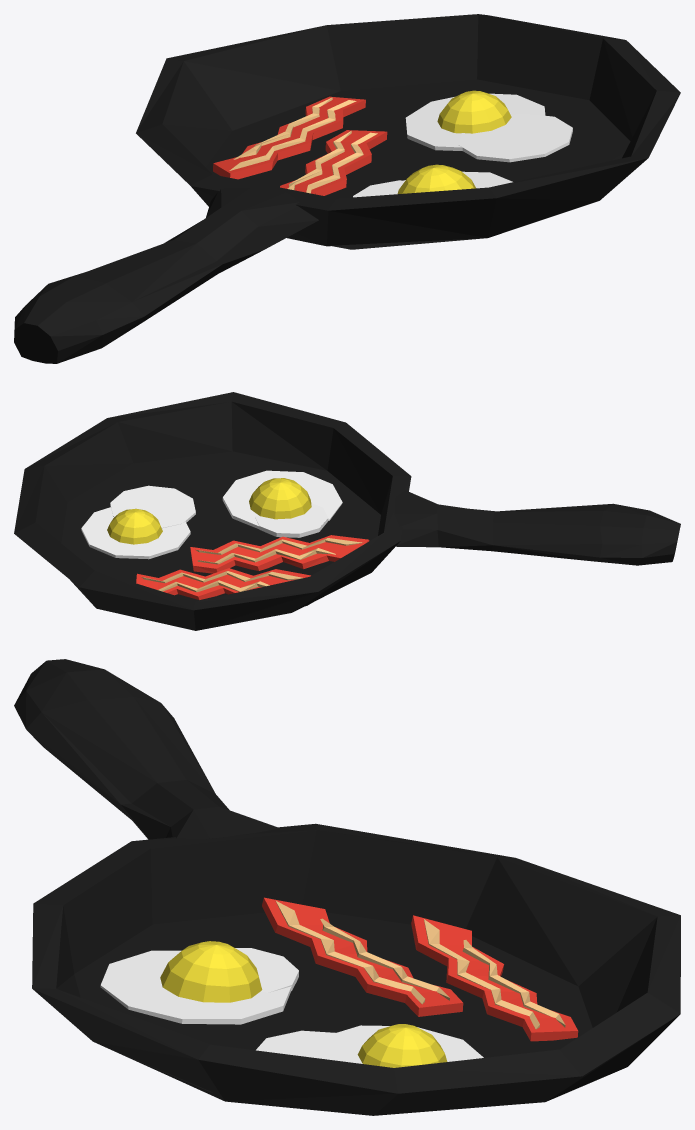
File: Breakfast by Ashley Alicea - adp5MvenMQm.glb
3 views of the same model, one above another, from view 1: azimuth 30°, elevation 25°; view 2: azimuth 150°, elevation 25°; view 3: azimuth 270°, elevation 25° (orthographic). The views are drawn at different scales.
Parts seen in each view (by area): view 1: group1349034579, group63637799, group1460893701, group959535772, group1521922237; view 2: group1349034579, group63637799, group1521922237, group959535772, group1460893701; view 3: group1349034579, group1521922237, group959535772, group1460893701, group63637799.
Part boxes in pixels (x1,y1,x2,y2): group1349034579: (14, 14, 680, 363); group63637799: (405, 90, 572, 162); group1460893701: (213, 96, 365, 179); group959535772: (280, 130, 387, 195); group1521922237: (353, 164, 512, 197); group1349034579: (14, 392, 680, 630); group63637799: (81, 485, 195, 559); group1521922237: (222, 470, 342, 537); group959535772: (190, 535, 369, 573); group1460893701: (136, 568, 310, 599); group1349034579: (14, 659, 680, 1115); group1521922237: (100, 941, 298, 1024); group959535772: (262, 897, 463, 1016); group1460893701: (411, 915, 578, 1041); group63637799: (256, 1024, 483, 1067).
Bounding box in the file's own units: 1.4 × 0.1714 × 0.8972.
